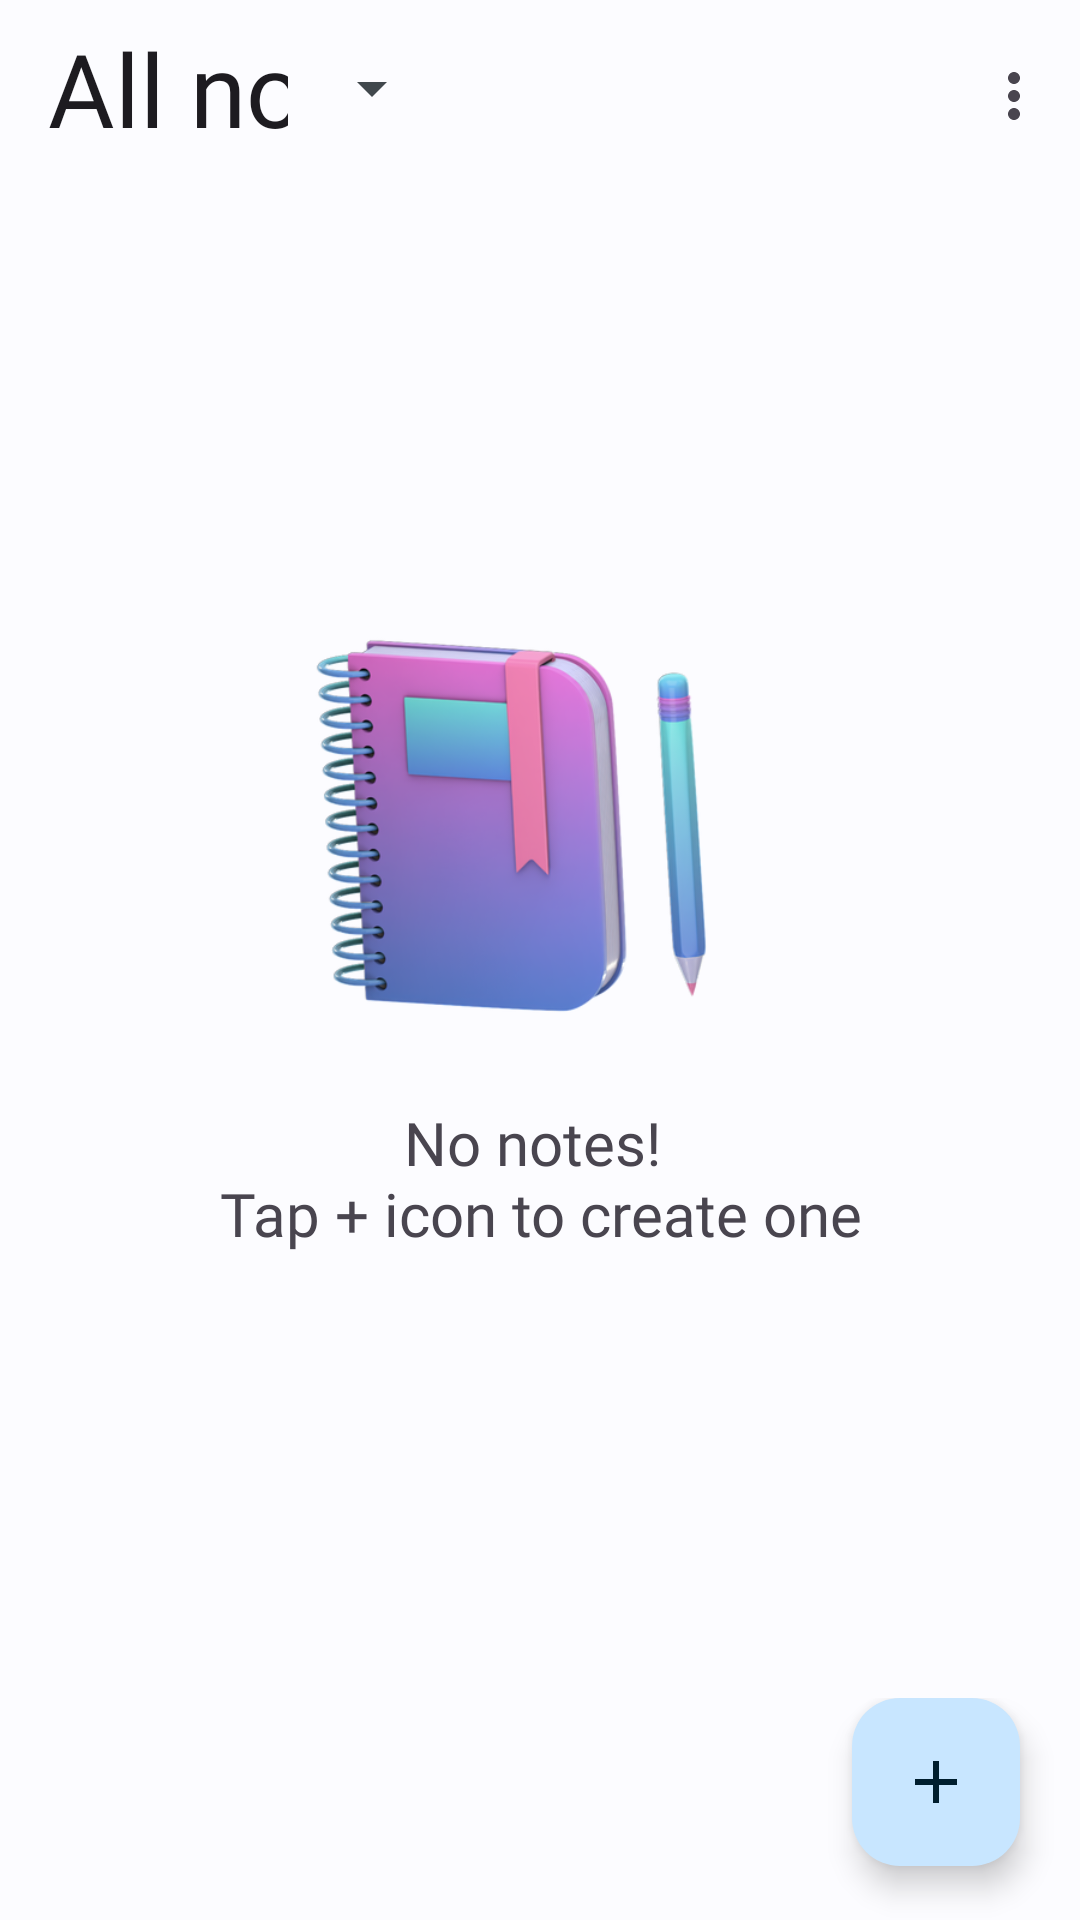

Where icons sit on this 1080px×1920px app screen, as (x1, y1, x2, y2):
Add Note: (852, 1698, 1020, 1866)
